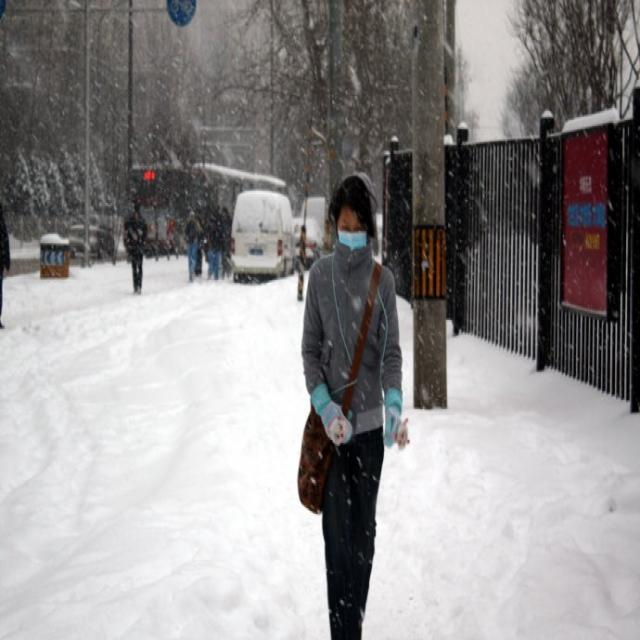mask: (337, 202, 364, 260)
